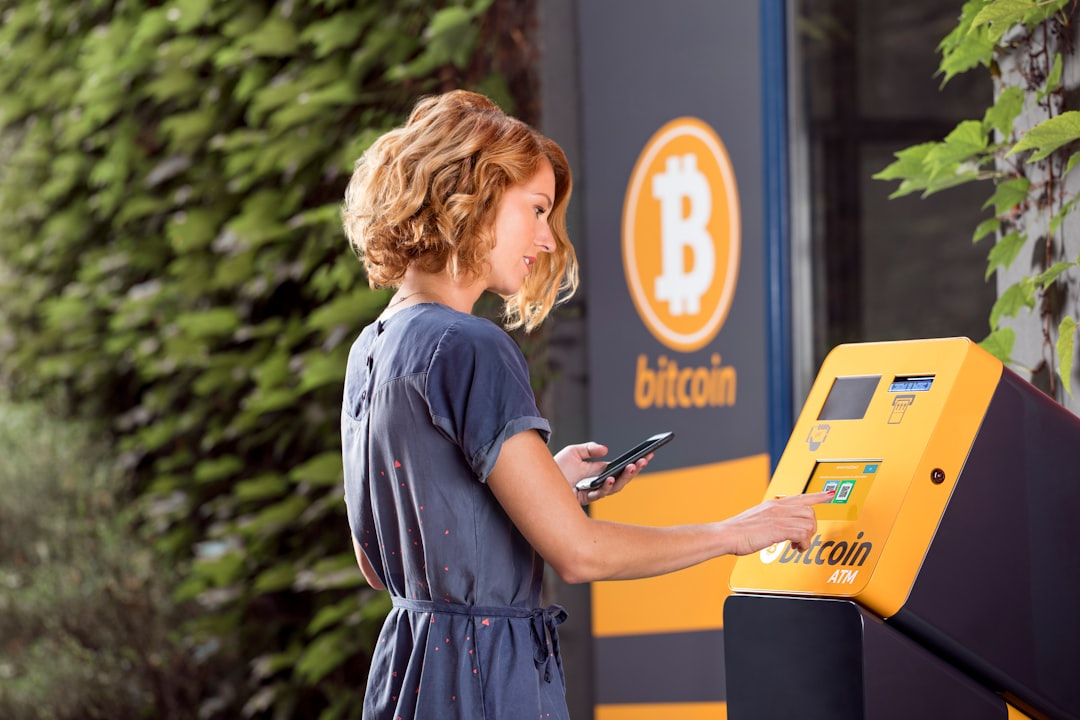phone: (572, 430, 677, 492)
